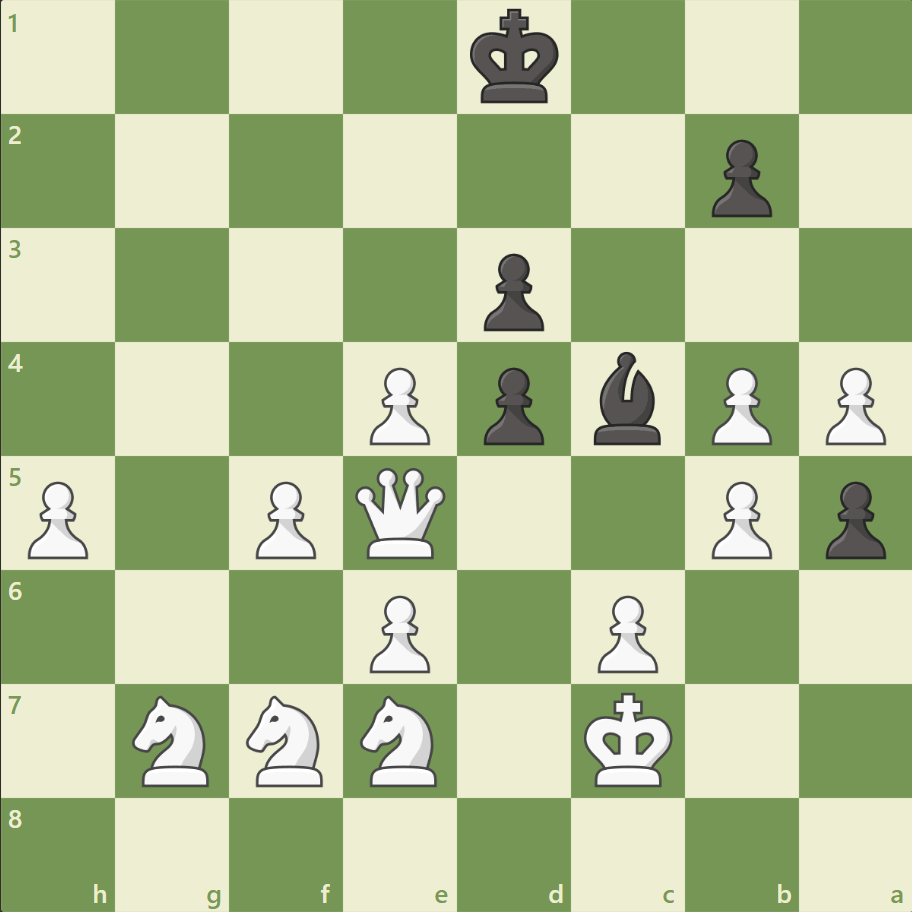K: (579, 685, 679, 793)
N: (351, 688, 449, 791), (124, 688, 222, 791), (238, 688, 335, 791)
P: (701, 473, 776, 564), (247, 473, 322, 564), (20, 473, 95, 564), (701, 359, 776, 450), (588, 586, 662, 677), (361, 586, 435, 677), (815, 359, 889, 450), (361, 359, 435, 450)
Q: (351, 463, 450, 562)
b: (585, 347, 669, 449)
k: (465, 4, 565, 112)
p: (474, 359, 549, 450), (474, 246, 549, 337), (701, 132, 776, 223), (815, 473, 889, 564)
